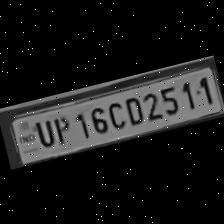1: (192, 72, 218, 108), (68, 107, 92, 141), (176, 78, 200, 112)
2: (138, 88, 163, 123)
5: (154, 80, 181, 118)
6: (84, 102, 110, 136)
C: (103, 97, 127, 132)
D: (120, 92, 144, 128)
P: (48, 111, 75, 146)
U: (30, 115, 56, 150)
